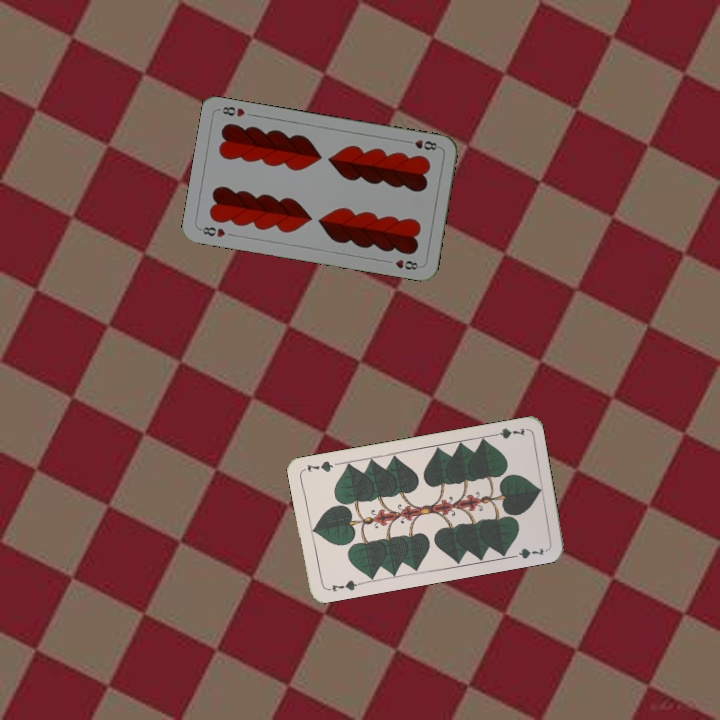G7: (323, 576, 363, 594), (487, 424, 527, 441)
H8: (402, 135, 442, 153), (196, 223, 228, 240)
